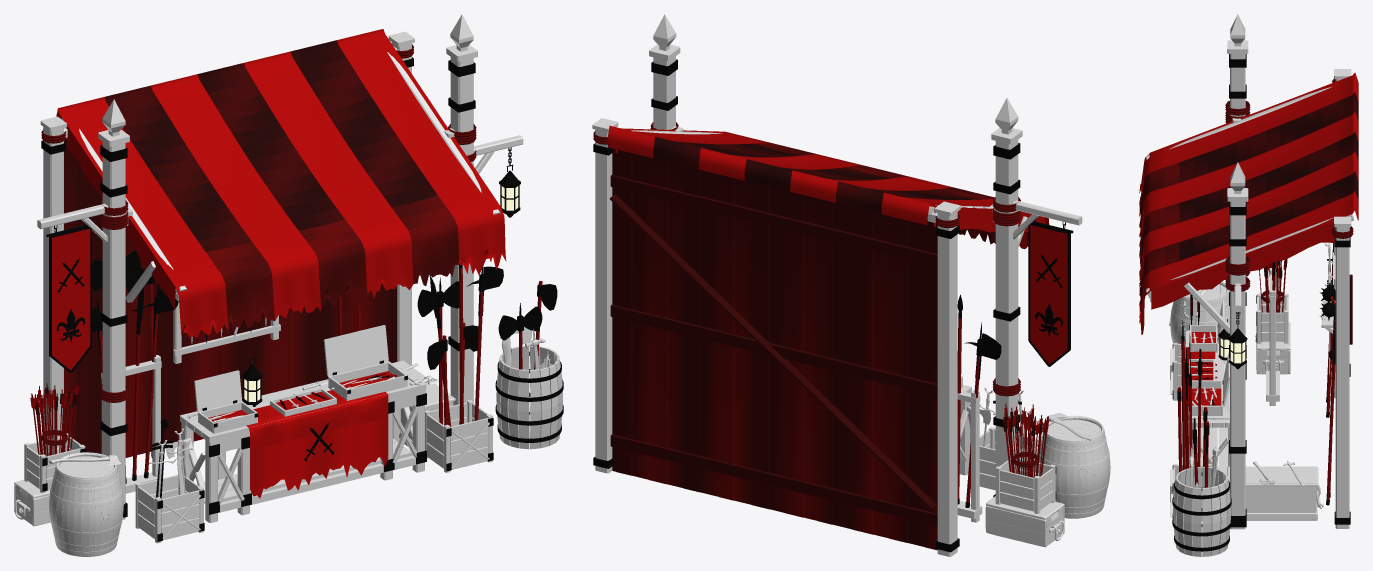
File: SilverbrookWeaponsVendor.fbx
3 renders of one model, left to right at view 1: azimuth 30°, elevation 25°; view 2: azimuth 150°, elevation 25°; view 3: azimuth 270°, elevation 25°, orthographic. The views are drawn at different scales.
Parts seen in each view (by area): view 1: SM_SBWeaponsVendor_Cloth, SM_SBWeaponsVendor_Timber, SM_SBWeaponsVendor_Wall, SM_SBWeaponsVendor_Details, SM_SBWeaponsVendor_Stock, SM_SBWeaponsVendor_PH_wine_barrel_01_01_0, SM_SBWeaponsVendor_PH_wooden_crate_01_01_0, SM_SBWeaponsVendor_PH_wine_barrel_01_01_3; view 2: SM_SBWeaponsVendor_Wall, SM_SBWeaponsVendor_Timber, SM_SBWeaponsVendor_Cloth, SM_SBWeaponsVendor_Details, SM_SBWeaponsVendor_PH_wine_barrel_01_01_0, SM_SBWeaponsVendor_Stock, SM_SBWeaponsVendor_PH_wooden_crate_01_01_0, SM_SBWeaponsVendor_PH_wine_barrel_01_01_3; view 3: SM_SBWeaponsVendor_Cloth, SM_SBWeaponsVendor_Timber, SM_SBWeaponsVendor_Details, SM_SBWeaponsVendor_Stock, SM_SBWeaponsVendor_PH_wooden_crate_02_01_0, SM_SBWeaponsVendor_PH_wine_barrel_01_01_0, SM_SBWeaponsVendor_PH_wooden_crate_02_01_1, SM_SBWeaponsVendor_PH_wooden_crate_01_01_0, SM_SBWeaponsVendor_PH_wooden_crate_01_01_2.
Part boxes in pixels (left/top/right/bottom): SM_SBWeaponsVendor_Cloth: left=56, top=29, right=506, bottom=498; SM_SBWeaponsVendor_Timber: left=24, top=14, right=562, bottom=543; SM_SBWeaponsVendor_Wall: left=64, top=138, right=396, bottom=457; SM_SBWeaponsVendor_Details: left=41, top=44, right=563, bottom=541; SM_SBWeaponsVendor_Stock: left=30, top=250, right=557, bottom=498; SM_SBWeaponsVendor_PH_wine_barrel_01_01_0: left=49, top=452, right=123, bottom=556; SM_SBWeaponsVendor_PH_wooden_crate_01_01_0: left=14, top=485, right=50, bottom=526; SM_SBWeaponsVendor_PH_wine_barrel_01_01_3: left=58, top=456, right=113, bottom=477; SM_SBWeaponsVendor_Wall: left=610, top=149, right=937, bottom=550; SM_SBWeaponsVendor_Timber: left=592, top=14, right=1082, bottom=556; SM_SBWeaponsVendor_Cloth: left=607, top=125, right=1049, bottom=249; SM_SBWeaponsVendor_Details: left=593, top=59, right=1073, bottom=552; SM_SBWeaponsVendor_PH_wine_barrel_01_01_0: left=1039, top=415, right=1110, bottom=518; SM_SBWeaponsVendor_Stock: left=957, top=294, right=1048, bottom=507; SM_SBWeaponsVendor_PH_wooden_crate_01_01_0: left=985, top=505, right=1064, bottom=547; SM_SBWeaponsVendor_PH_wine_barrel_01_01_3: left=1047, top=419, right=1100, bottom=440; SM_SBWeaponsVendor_Cloth: left=1139, top=72, right=1358, bottom=405; SM_SBWeaponsVendor_Timber: left=1146, top=14, right=1353, bottom=556; SM_SBWeaponsVendor_Details: left=1172, top=54, right=1353, bottom=551; SM_SBWeaponsVendor_Stock: left=1177, top=242, right=1335, bottom=505; SM_SBWeaponsVendor_PH_wooden_crate_02_01_0: left=1229, top=484, right=1323, bottom=520; SM_SBWeaponsVendor_PH_wine_barrel_01_01_0: left=1170, top=281, right=1229, bottom=363; SM_SBWeaponsVendor_PH_wooden_crate_02_01_1: left=1227, top=466, right=1318, bottom=486; SM_SBWeaponsVendor_PH_wooden_crate_01_01_0: left=1255, top=340, right=1290, bottom=374; SM_SBWeaponsVendor_PH_wooden_crate_01_01_2: left=1256, top=322, right=1290, bottom=350.
Bounding box in the file's own units: 581 × 460 × 251.
